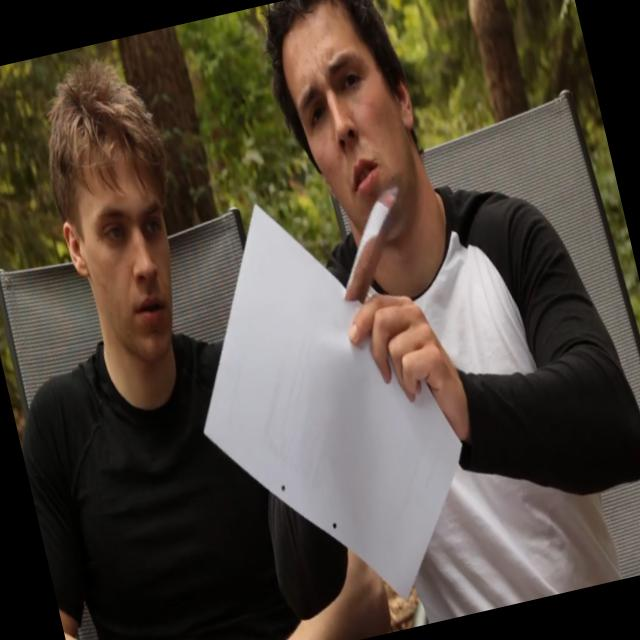knife: (312, 168, 434, 314)
